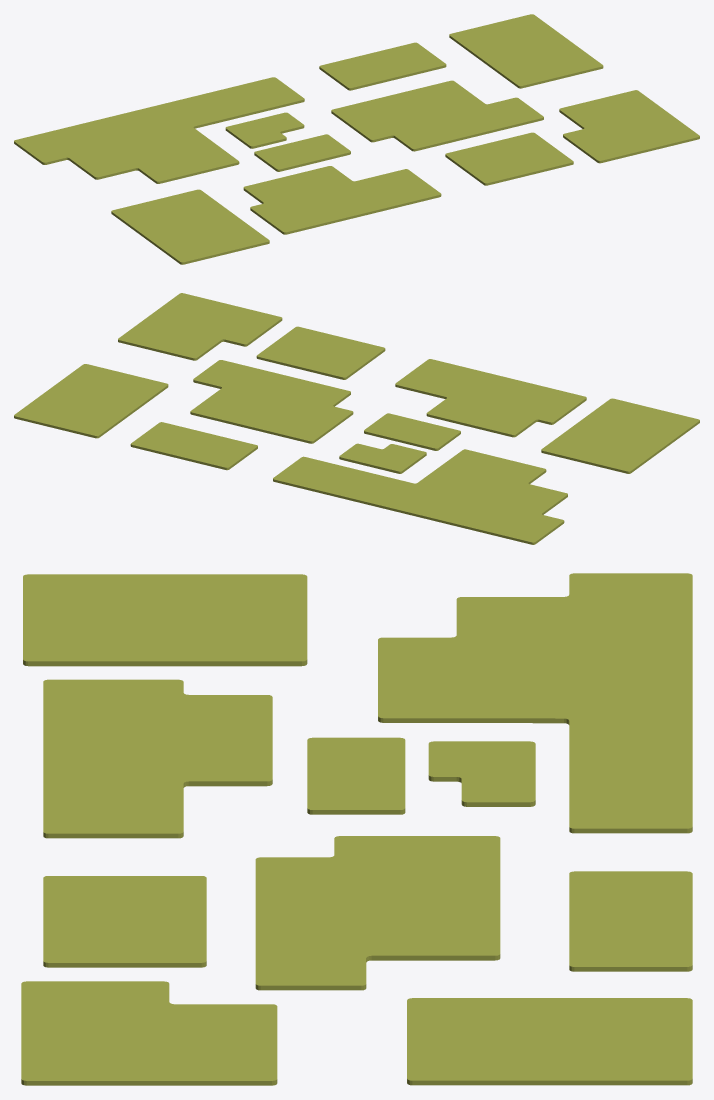
Rendered from grass_floor.fbx.
3 renders of one model, top to bottom at view 1: azimuth 30°, elevation 25°; view 2: azimuth 150°, elevation 25°; view 3: azimuth 270°, elevation 25°, orthographic. The views are drawn at different scales.
Parts seen in each view (by area): view 1: grass_floor; view 2: grass_floor; view 3: grass_floor.
Part boxes in pixels (left/top/right/bottom): grass_floor: left=14, top=14, right=699, bottom=264; grass_floor: left=14, top=293, right=699, bottom=544; grass_floor: left=21, top=573, right=692, bottom=1085.
Bounding box in the file's own units: 3471 × 15 × 1940.
